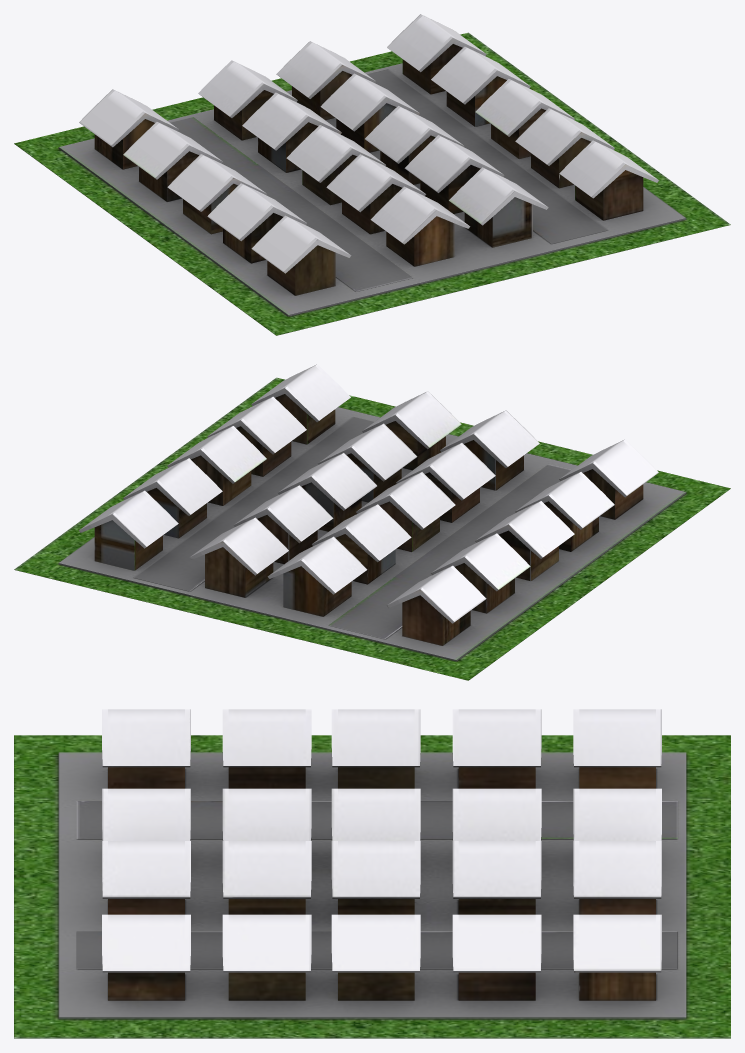
Rendered from house_zone.FBX.
3 views of the same model, one above another, from view 1: azimuth 30°, elevation 25°; view 2: azimuth 150°, elevation 25°; view 3: azimuth 270°, elevation 25° (orthographic). The views are drawn at different scales.
Visible parts, largest first — view 1: Box020; view 2: Box020; view 3: Box020.
Part boxes in pixels (x1,y1,x2,y2): Box020: (14,14,730,335); Box020: (14,364,730,680); Box020: (14,709,730,1038).
Bounding box in the file's own units: 800 × 92.73 × 800.
